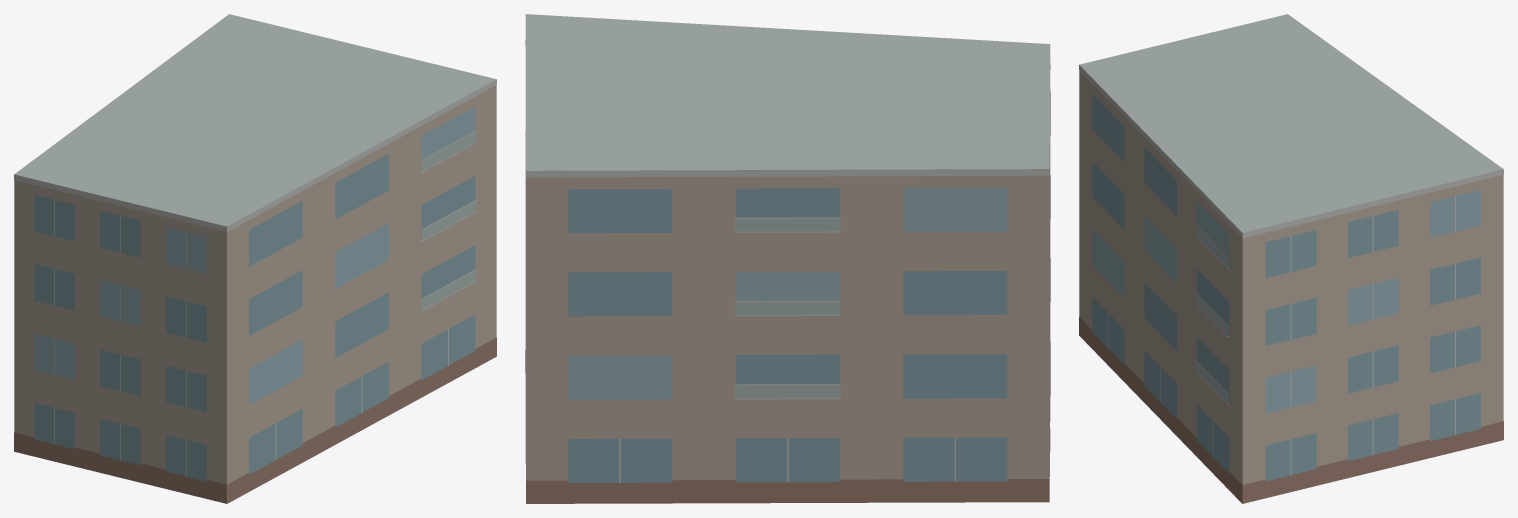
File: residential-9acf7ede-ca82-4271-9792-5853cd0b7637.glb
3 renders of one model, left to right at view 1: azimuth 30°, elevation 25°; view 2: azimuth 150°, elevation 25°; view 3: azimuth 270°, elevation 25°, orthographic. The views are drawn at different scales.
Visible parts, largest first — view 1: residential-9acf7ede-ca82-4271-9792-5853cd0b7637.tmp; view 2: residential-9acf7ede-ca82-4271-9792-5853cd0b7637.tmp; view 3: residential-9acf7ede-ca82-4271-9792-5853cd0b7637.tmp.
Part boxes in pixels (x1,y1,x2,y2): residential-9acf7ede-ca82-4271-9792-5853cd0b7637.tmp: [14, 14, 496, 503]; residential-9acf7ede-ca82-4271-9792-5853cd0b7637.tmp: [525, 14, 1050, 503]; residential-9acf7ede-ca82-4271-9792-5853cd0b7637.tmp: [1079, 14, 1503, 503].
Bounding box in the file's own units: 21.17 × 12.2 × 17.34.
